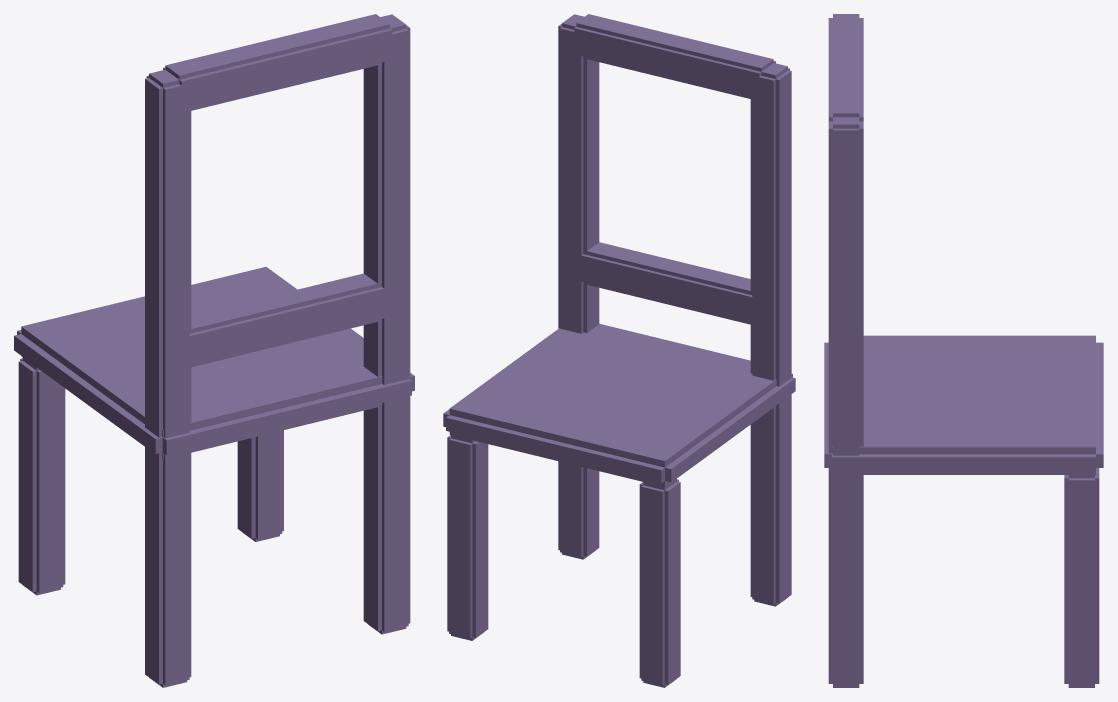
File: ebonwood_chair_v0.glb
The picture shows the model from 3 angles, left to right: view 1: azimuth 30°, elevation 25°; view 2: azimuth 150°, elevation 25°; view 3: azimuth 270°, elevation 25°; orthographic projection. The views are drawn at different scales.
Visible parts, largest first — view 1: ebonwood_chair_v0; view 2: ebonwood_chair_v0; view 3: ebonwood_chair_v0.
Boxes of the visible parts, box(x1,y1,x2,y2) form: ebonwood_chair_v0: box(14, 14, 414, 687); ebonwood_chair_v0: box(443, 14, 795, 687); ebonwood_chair_v0: box(824, 14, 1103, 687).
Bounding box in the file's own units: 0.64 × 1.43 × 0.64.
